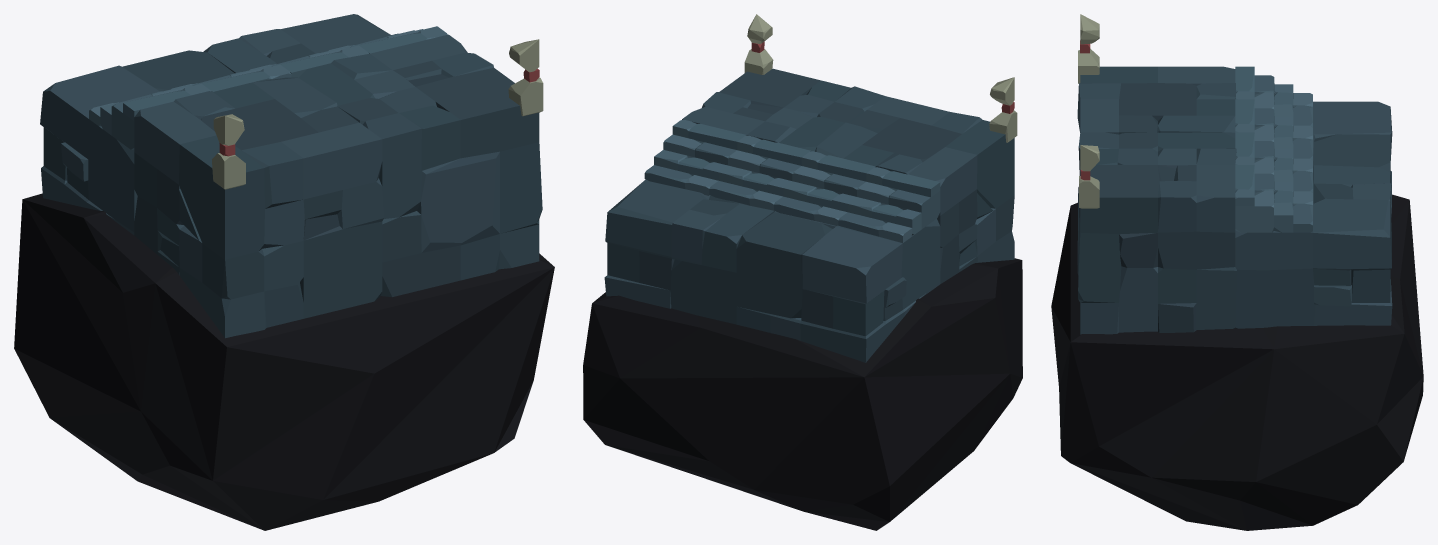
Rendered from platform_transition_to_hallway_02.fbx.
The picture shows the model from 3 angles, left to right: view 1: azimuth 30°, elevation 25°; view 2: azimuth 150°, elevation 25°; view 3: azimuth 270°, elevation 25°; orthographic projection. The views are drawn at different scales.
Visible parts, largest first — view 1: platform_transition_to_hallway_02; view 2: platform_transition_to_hallway_02; view 3: platform_transition_to_hallway_02.
Part boxes in pixels (x1,y1,x2,y2): platform_transition_to_hallway_02: [14, 14, 554, 530]; platform_transition_to_hallway_02: [583, 14, 1022, 530]; platform_transition_to_hallway_02: [1051, 14, 1423, 530].
Bounding box in the file's own units: 1041 × 1195 × 961.
